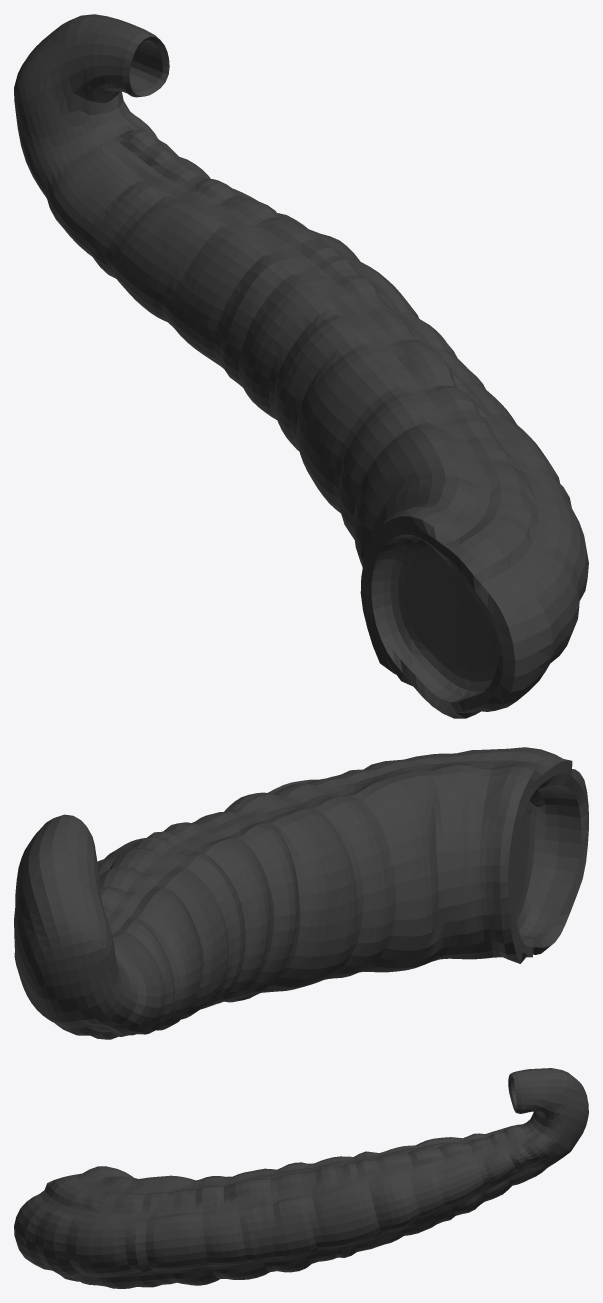
The model's file is L_ventral_colon.glb.
3 views of the same model, one above another, from view 1: azimuth 30°, elevation 25°; view 2: azimuth 150°, elevation 25°; view 3: azimuth 270°, elevation 25° (orthographic). The views are drawn at different scales.
Visible parts, largest first — view 1: L_ventral_colon; view 2: L_ventral_colon; view 3: L_ventral_colon.
Boxes of the visible parts, bbox=[...] form: L_ventral_colon: bbox=[14, 14, 588, 718]; L_ventral_colon: bbox=[14, 747, 588, 1039]; L_ventral_colon: bbox=[14, 1068, 588, 1288].
Size of the model in its own units: 0.3794 by 0.6326 by 1.48.
Materials: 1 (1 with a texture image).
